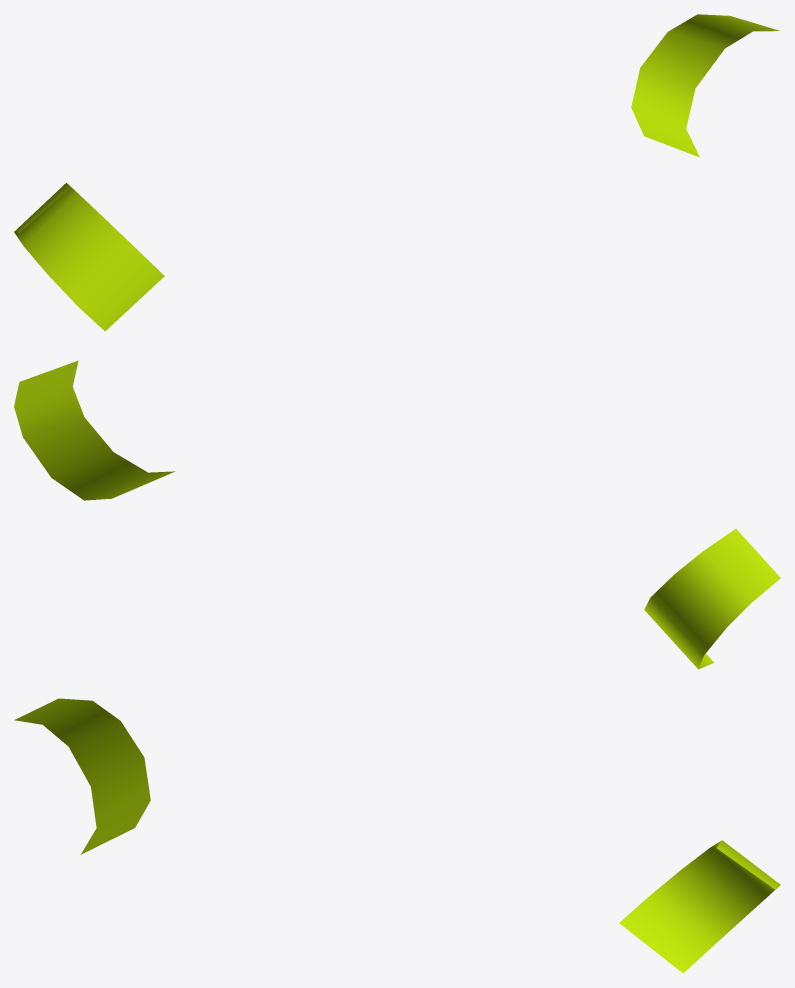
Rendered from HABILIDADES HUD.fbx.
The picture shows the model from 3 angles, top to bottom: view 1: azimuth 30°, elevation 25°; view 2: azimuth 150°, elevation 25°; view 3: azimuth 330°, elevation 25°; orthographic projection.
Visible parts, largest first — view 1: HABILIDAD1, HABILIDAD; view 2: HABILIDAD, HABILIDAD1; view 3: HABILIDAD, HABILIDAD1.
Part boxes in pixels (x1,y1,x2,y2): HABILIDAD1: [14, 183, 164, 331]; HABILIDAD: [631, 14, 779, 157]; HABILIDAD: [14, 360, 175, 500]; HABILIDAD1: [644, 529, 780, 669]; HABILIDAD: [619, 840, 780, 973]; HABILIDAD1: [14, 698, 150, 854].
Size of the model in its own units: 0.9016 by 0.1756 by 0.084.
